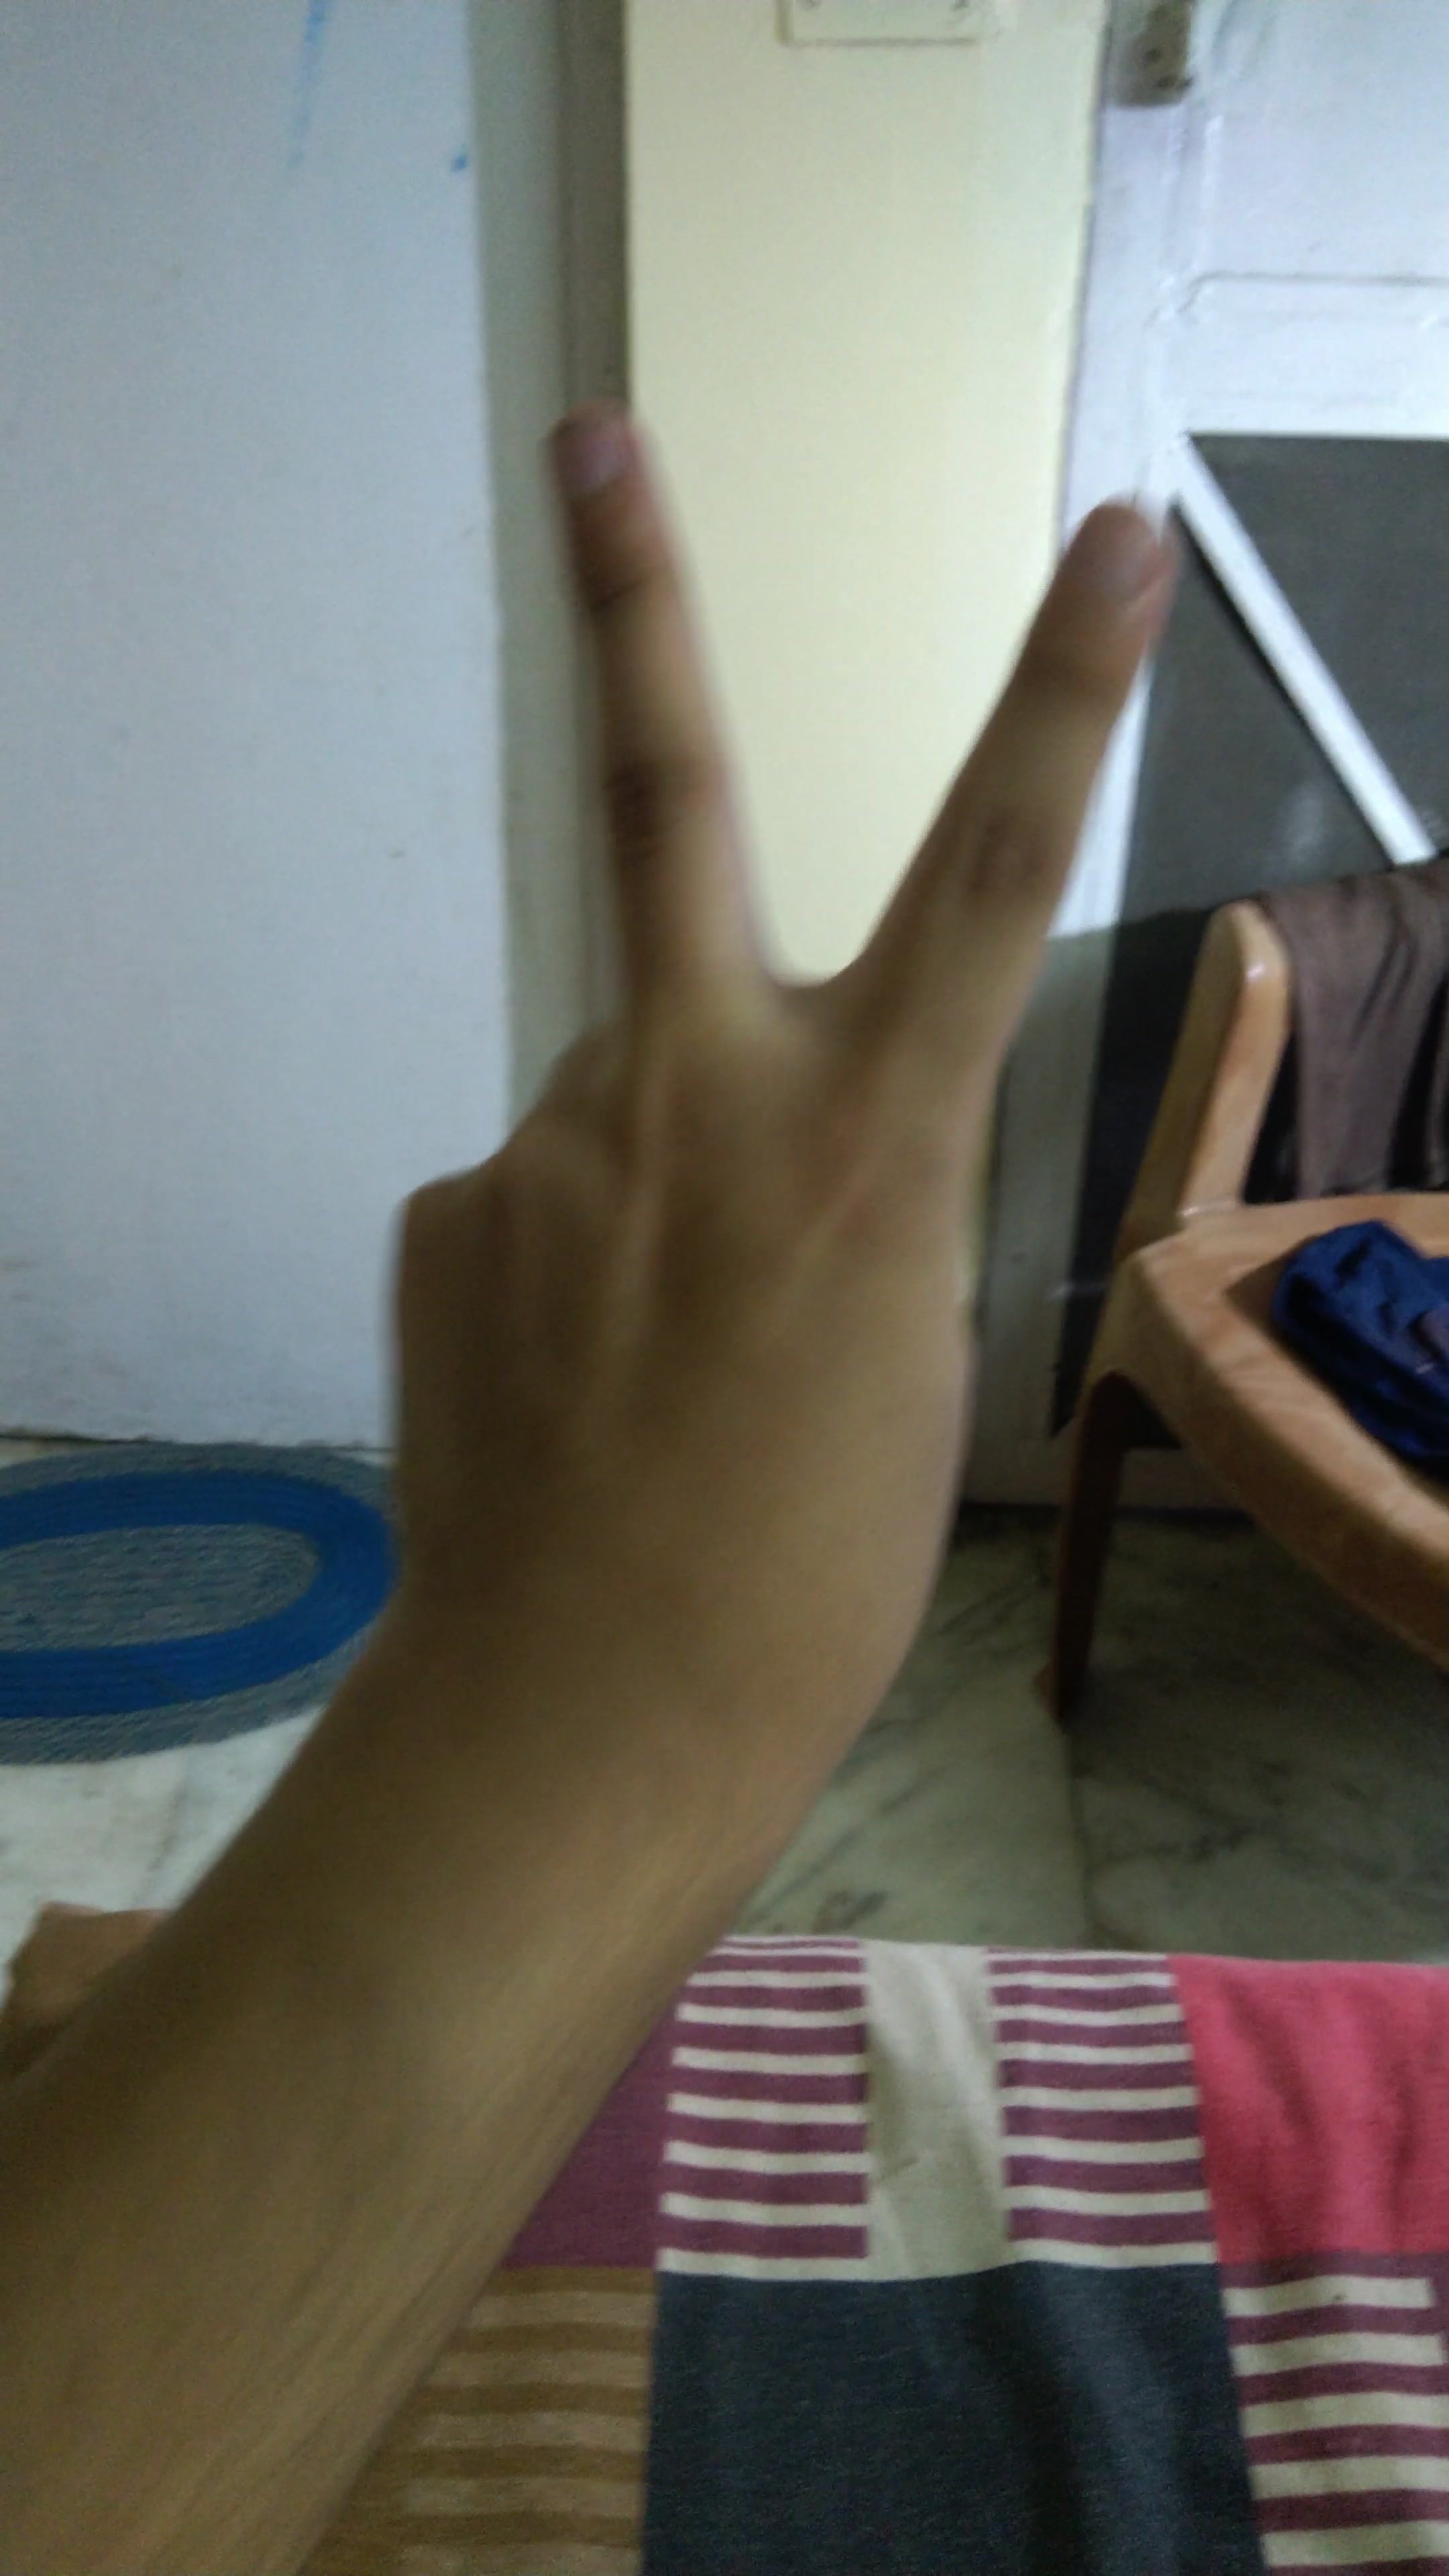hand: (249, 379, 1226, 1886)
